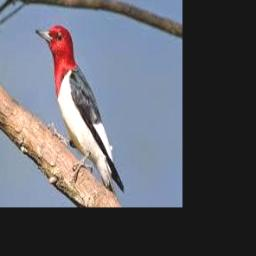Woodpecker: (35, 24, 125, 200)
